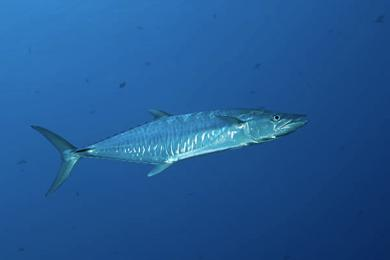Scombridae -Tunas-: (27, 104, 314, 198)
